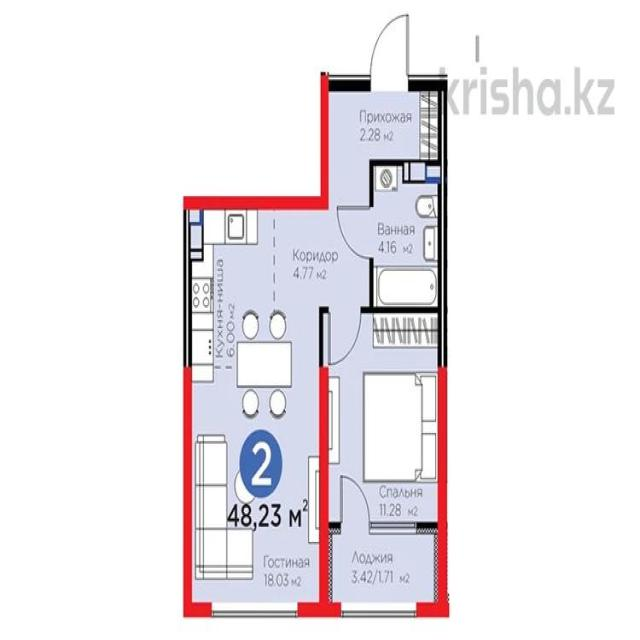balcony: (322, 527, 445, 618)
bathroom: (370, 162, 442, 310)
hallway: (323, 84, 445, 310)
living_room: (320, 314, 443, 530)
studio: (185, 199, 321, 618)
